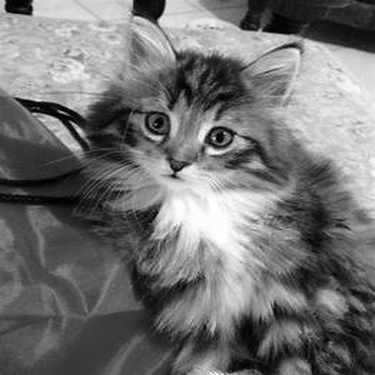cat: (63, 24, 367, 369)
